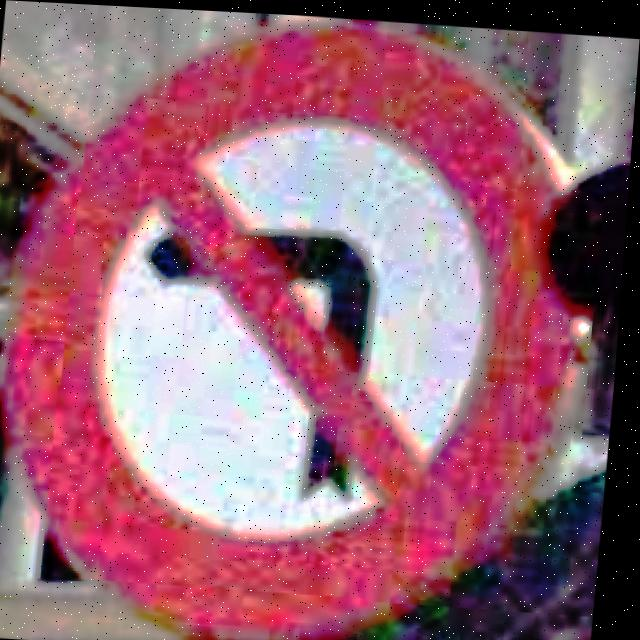noturnleft: (0, 1, 613, 640)
